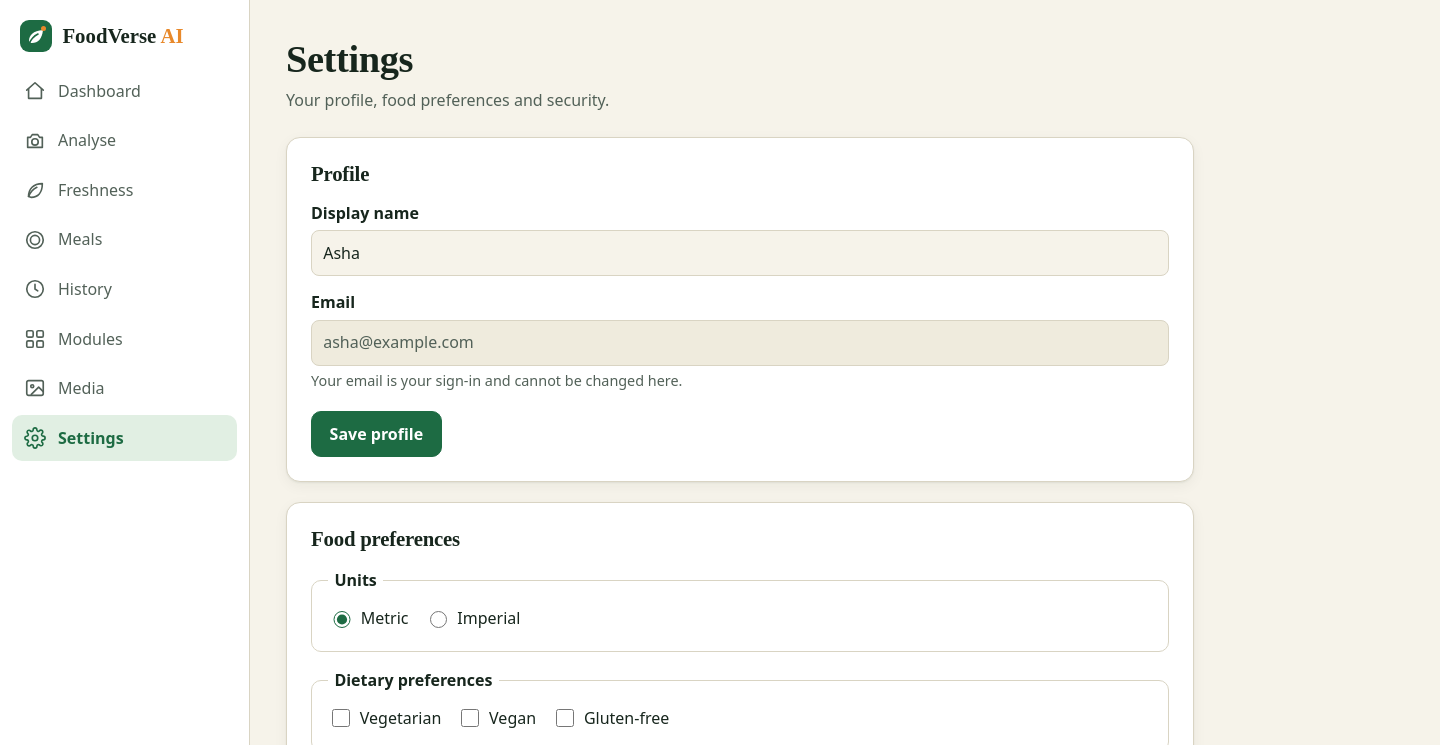
preferences page › loads preferences and saves changes through the API
Step 1. Click the radio button labelled "Imperial" → click(438, 620), box [430,611,447,628]
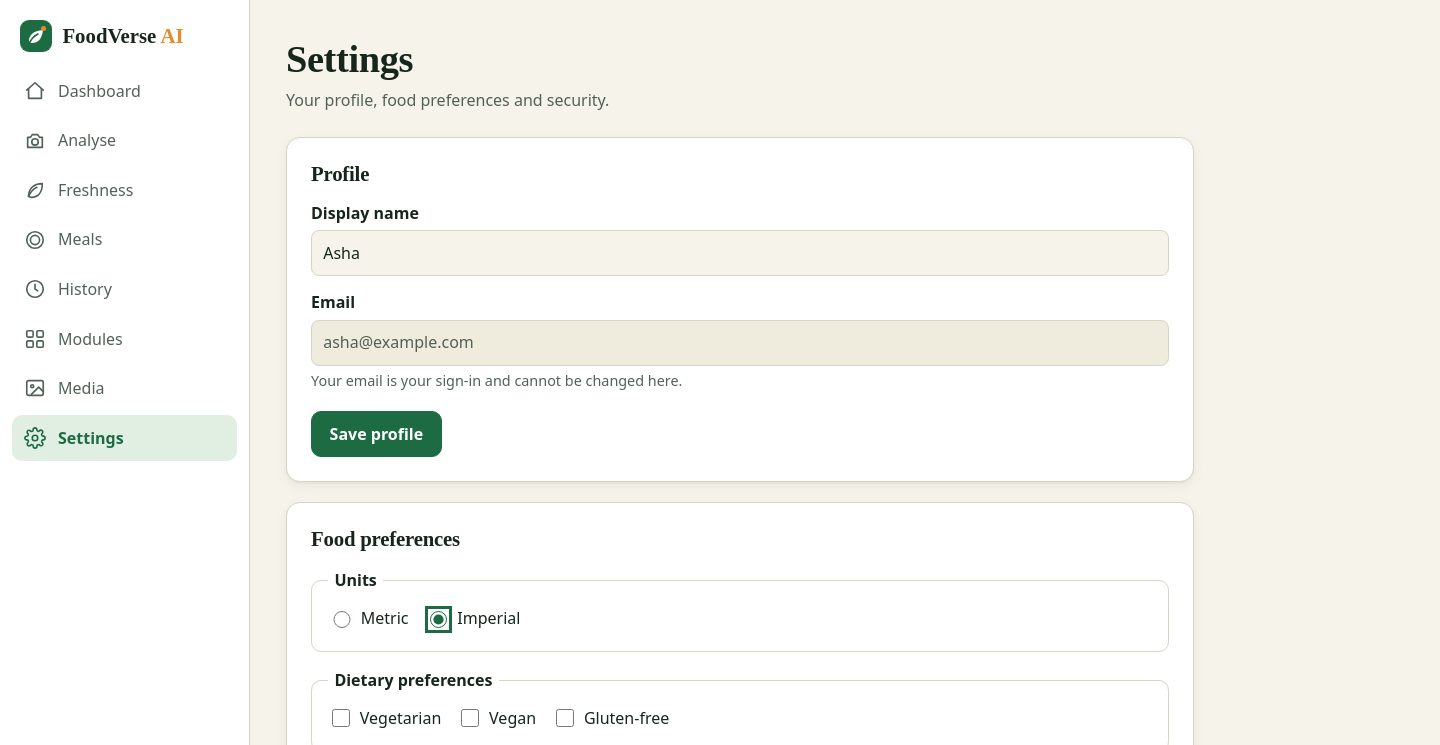
Step 2. Click the checkbox labelled "Vegan" → click(470, 718), box [461,709,479,727]
(page scrolled)
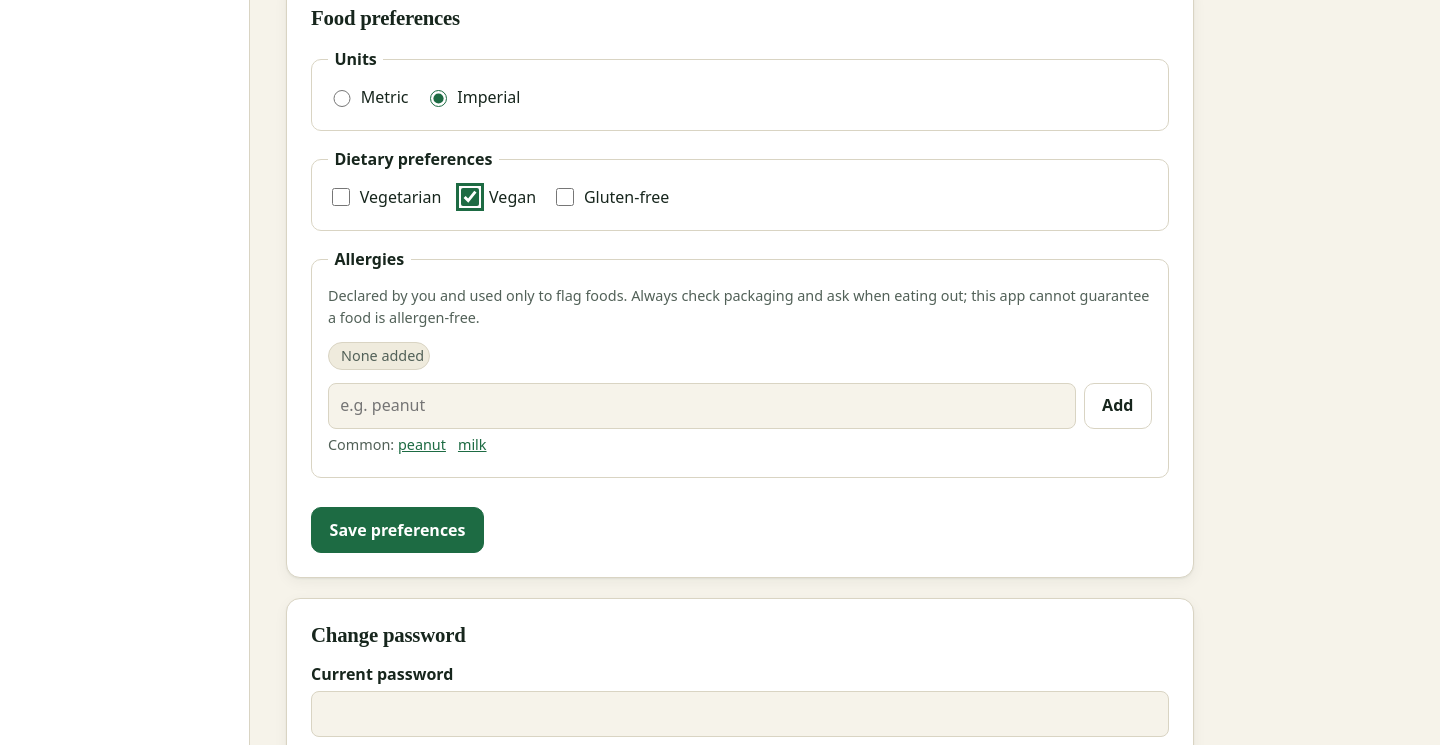
Step 3. Type "  Tree   Nut " into the field named "Add an allergy" → (702, 406), box [328,383,1076,429]
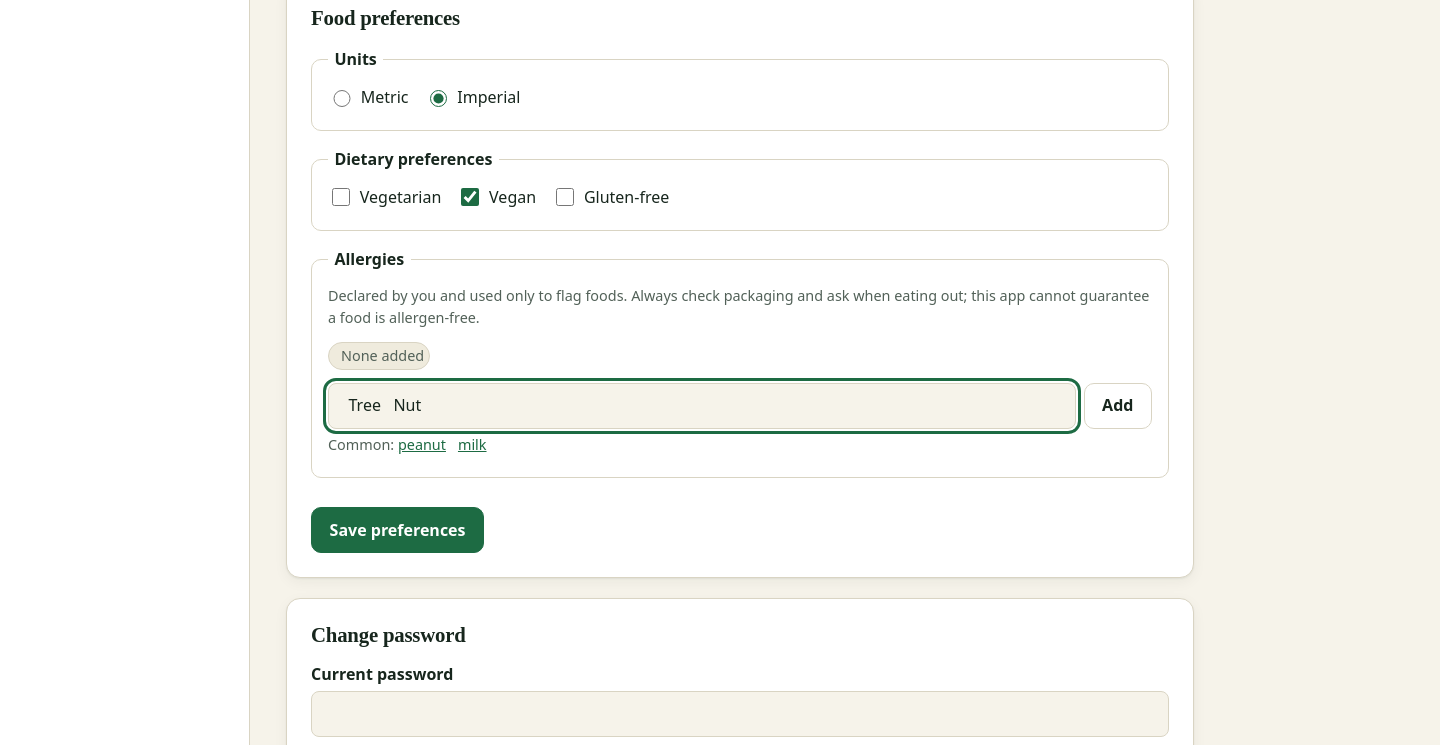
Step 4. Click the button "Add" → click(1118, 406), box [1084,383,1152,429]
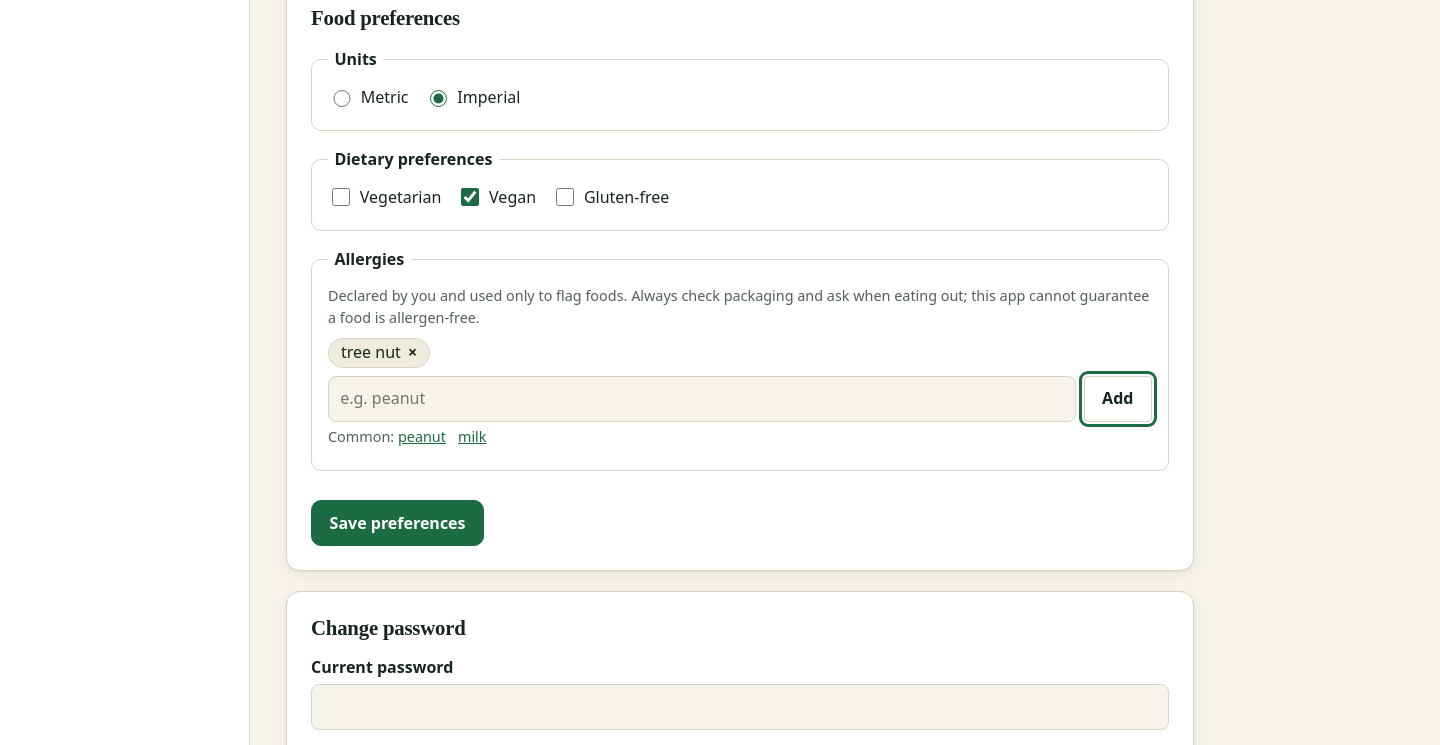
Step 5. Click the button "peanut" → click(426, 438), box [398,426,454,449]
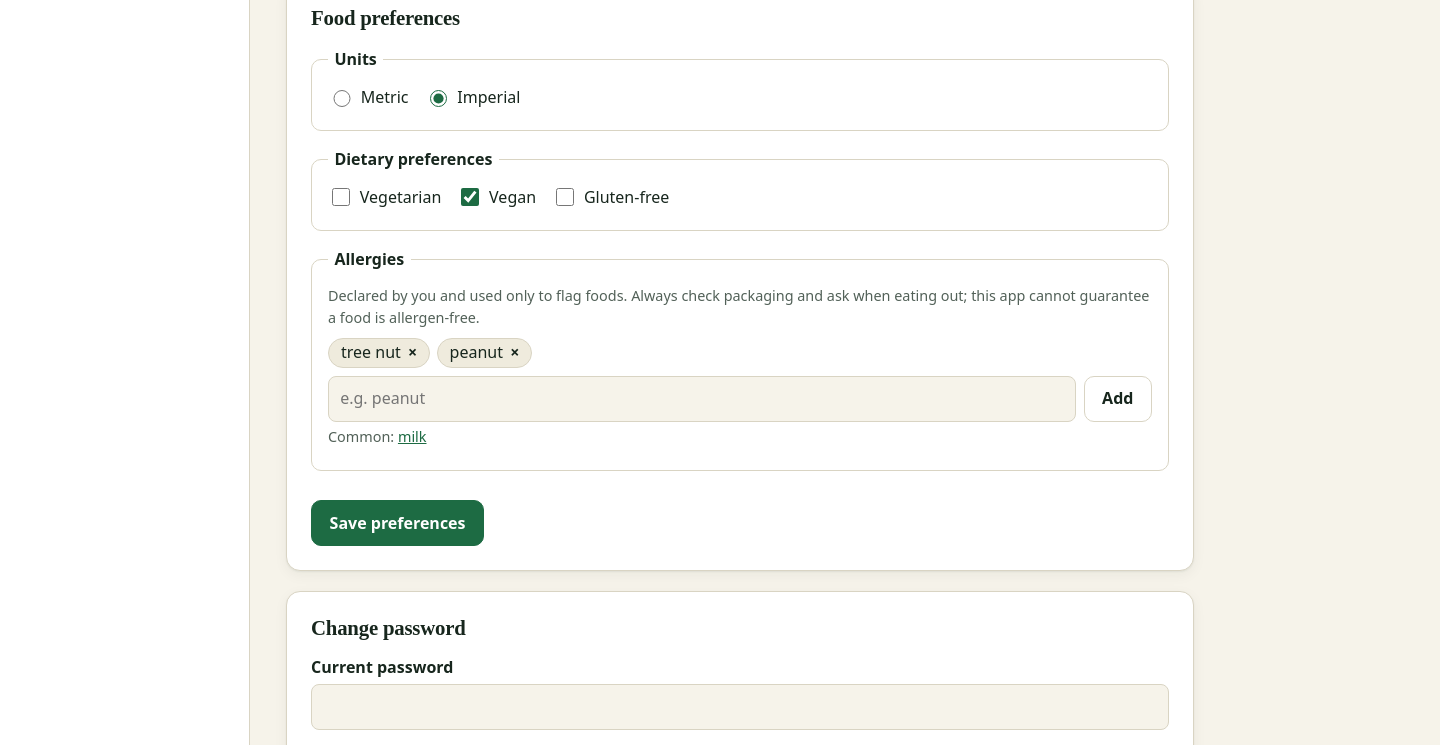
Step 6. Click the button "Save preferences" → click(398, 523), box [311,500,484,546]
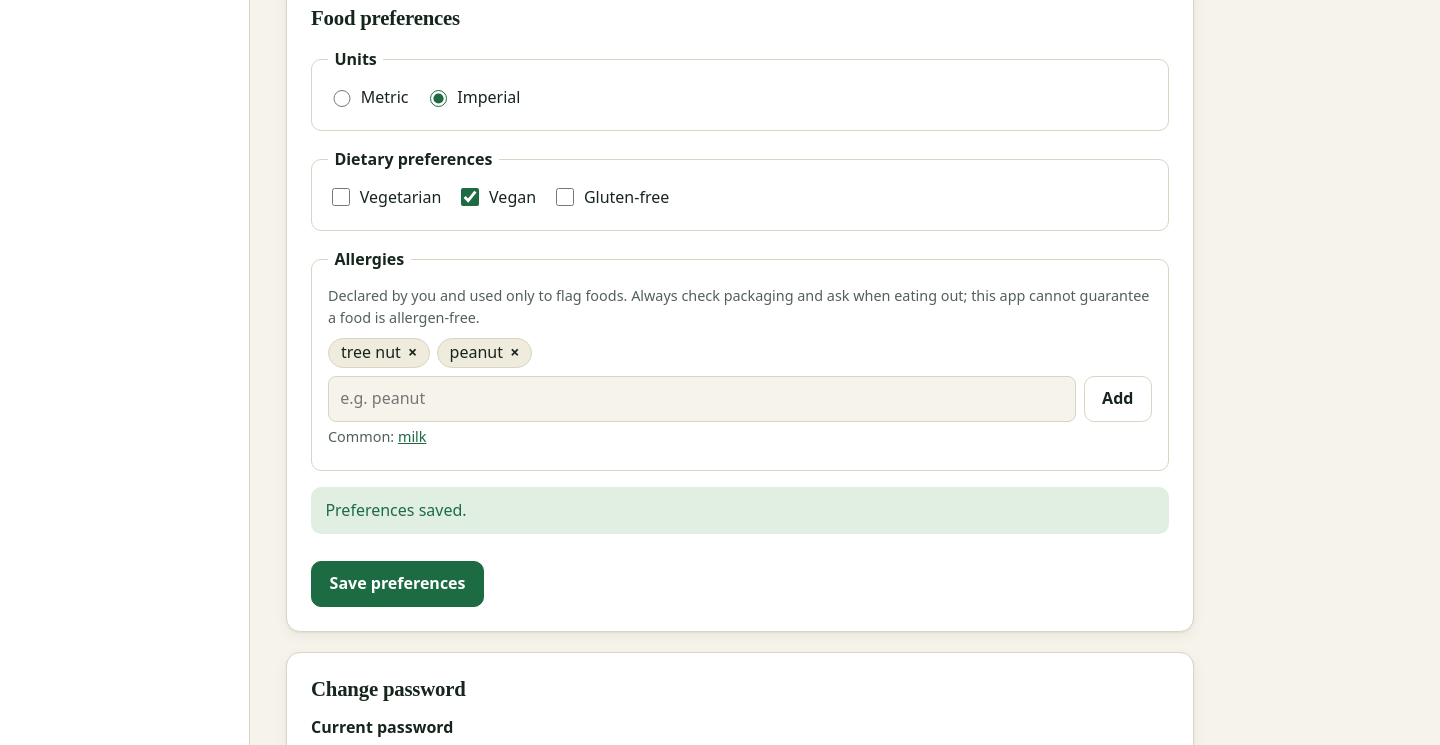
Expected: the text "Preferences saved." is shown, [311,486,1169,534]
